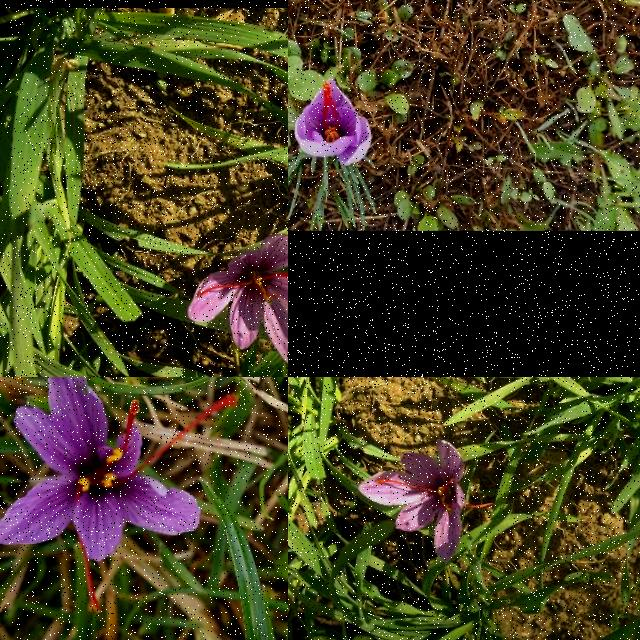flower: (0, 377, 238, 614), (360, 440, 496, 562), (187, 234, 288, 374), (294, 80, 372, 166)
